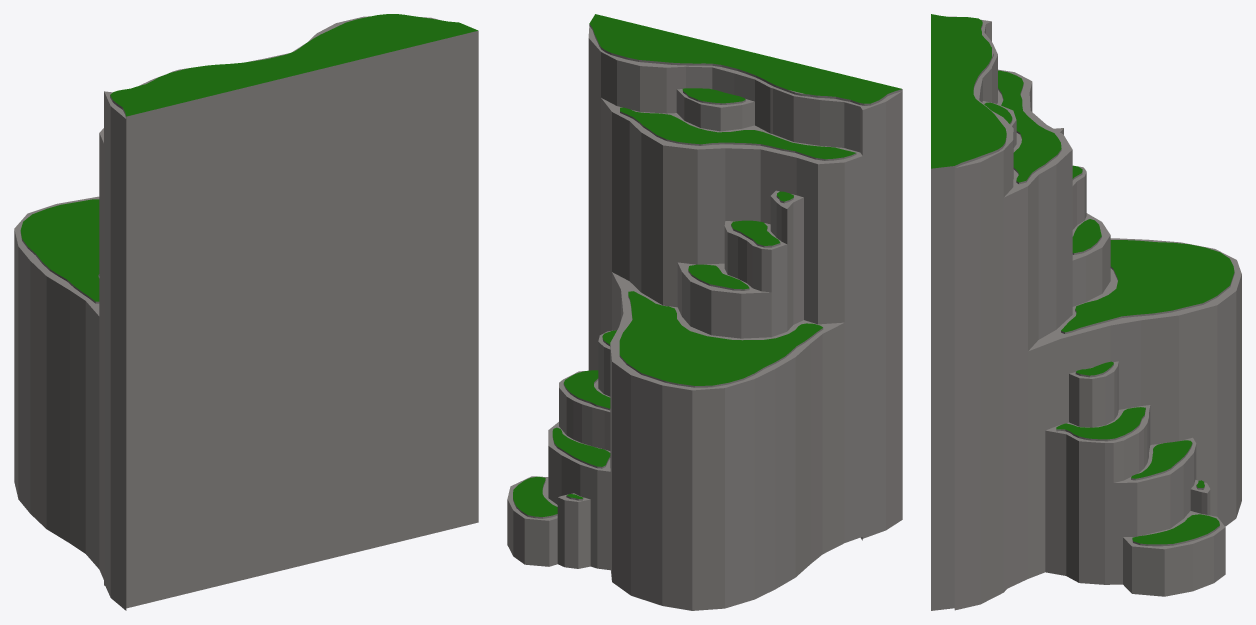
Rendered from StairEnd.fbx.
3 views of the same model, side by side, from view 1: azimuth 30°, elevation 25°; view 2: azimuth 150°, elevation 25°; view 3: azimuth 270°, elevation 25° (orthographic). The views are drawn at different scales.
Parts seen in each view (by area): view 1: Plane.015; view 2: Plane.015; view 3: Plane.015.
Part boxes in pixels (x1,y1,x2,y2): Plane.015: [14, 14, 478, 610]; Plane.015: [507, 14, 902, 610]; Plane.015: [931, 14, 1241, 610].
Size of the model in its own units: 75 by 101 by 63.66.
